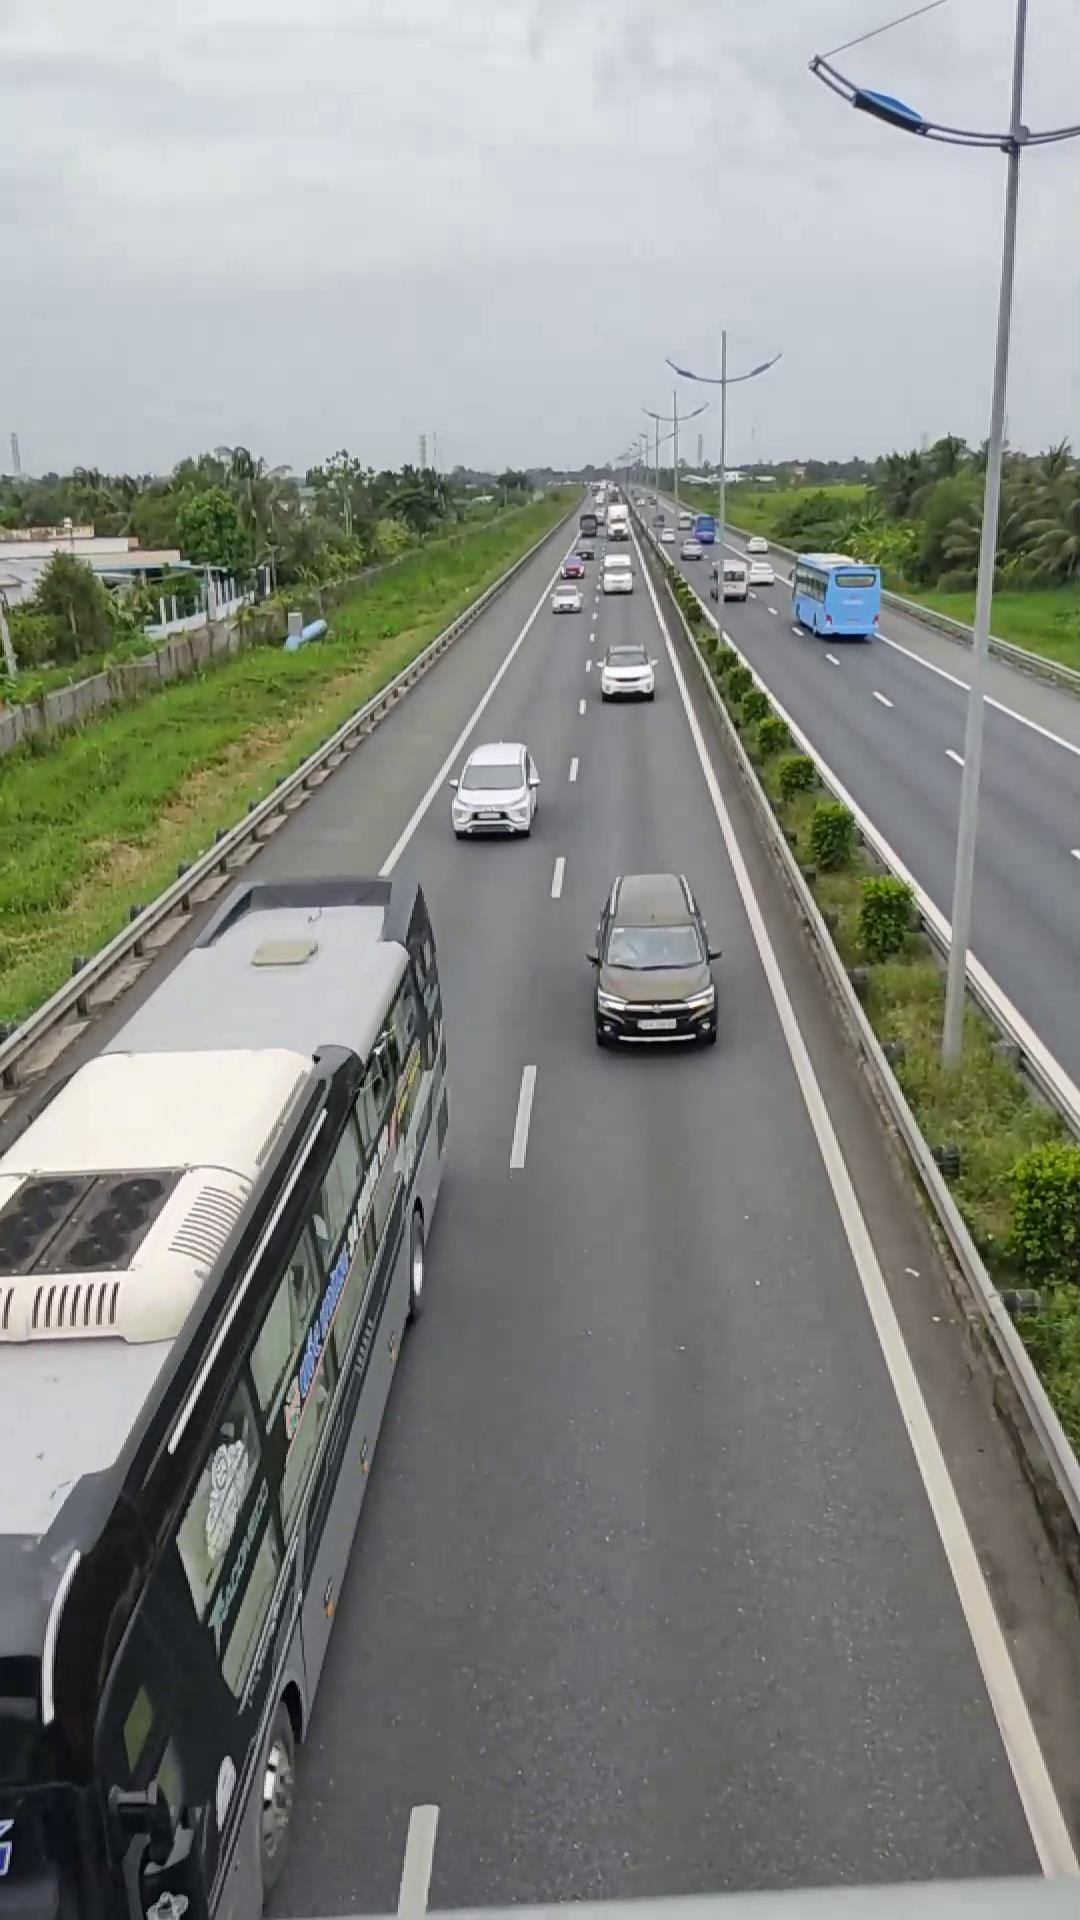bus: (0, 868, 458, 1880)
car: (585, 869, 721, 1047), (448, 741, 539, 839)
